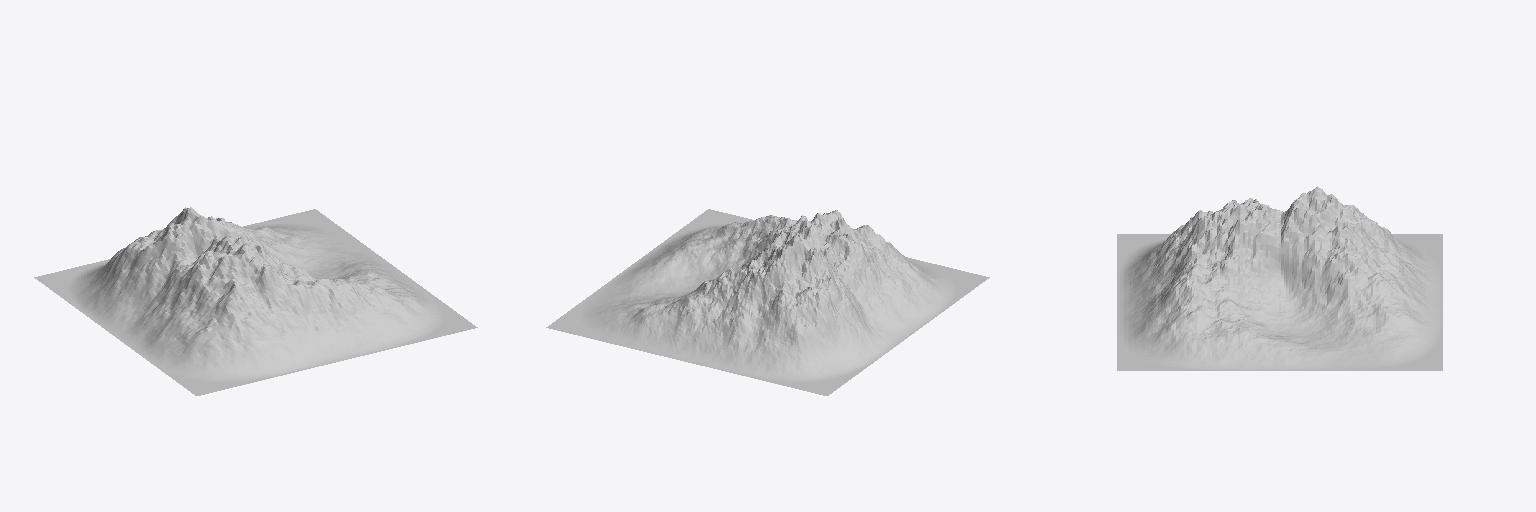
The model's file is landscape.obj.
3 renders of one model, left to right at view 1: azimuth 30°, elevation 25°; view 2: azimuth 150°, elevation 25°; view 3: azimuth 270°, elevation 25°, orthographic.
Visible parts, largest first — view 1: Landscape; view 2: Landscape; view 3: Landscape.
Part boxes in pixels (x1,y1,x2,y2): Landscape: (34,207,477,395); Landscape: (546,209,989,395); Landscape: (1117,186,1442,370).
Size of the model in its own units: 17.08 by 5.41 by 17.08.